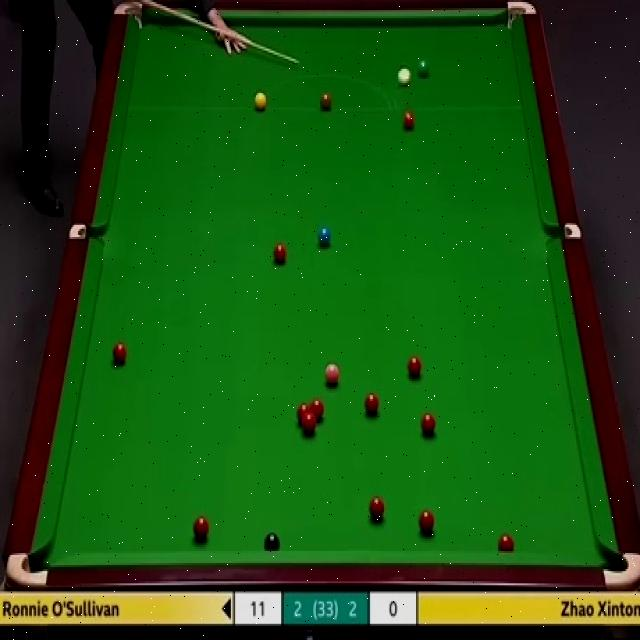black-ball: (262, 530, 280, 550)
blue-ball: (316, 226, 332, 248)
brown-ball: (319, 88, 332, 110)
green-ball: (414, 57, 430, 79)
pink-ball: (324, 364, 341, 388)
red-ball: (421, 411, 437, 439), (368, 496, 385, 521), (112, 342, 127, 369), (419, 512, 437, 534), (365, 390, 380, 416), (192, 517, 208, 541), (296, 403, 311, 428), (496, 534, 516, 552), (273, 241, 288, 264), (302, 416, 318, 436), (311, 398, 324, 422), (407, 356, 421, 376), (404, 110, 416, 132)
white-ball: (398, 67, 412, 87)
yellow-ball: (253, 92, 268, 110)
